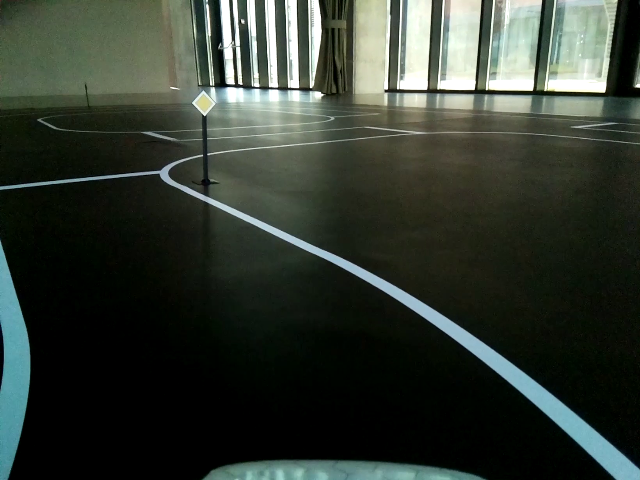priority: (190, 90, 215, 116)
